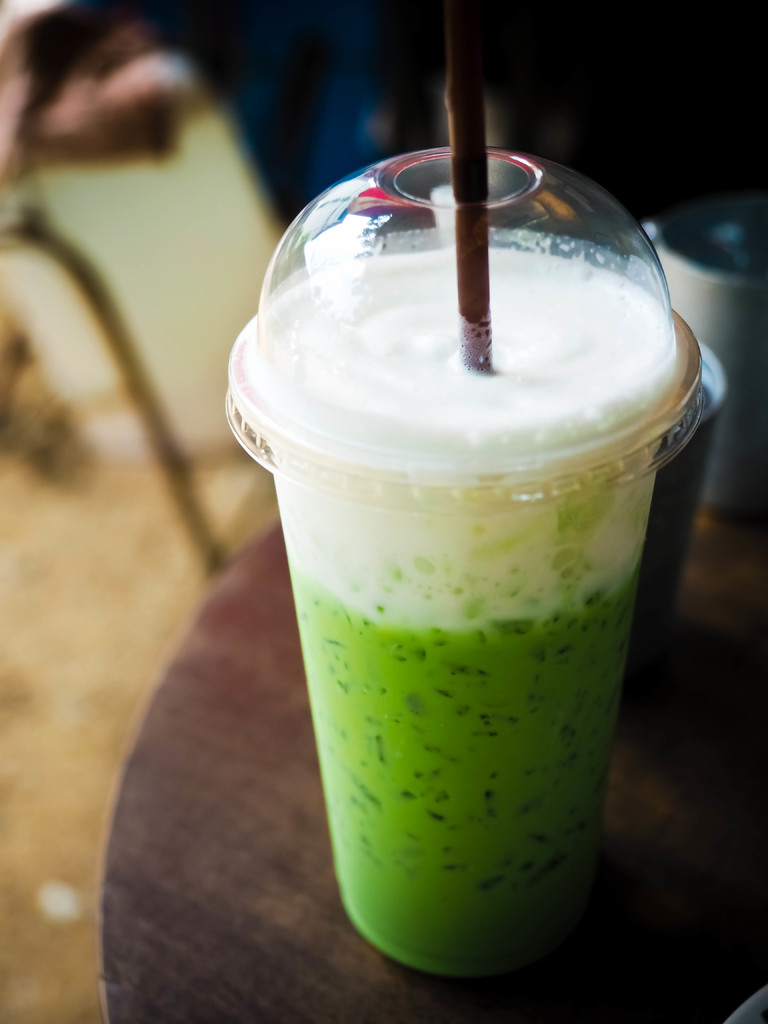person: (0, 1, 210, 212)
